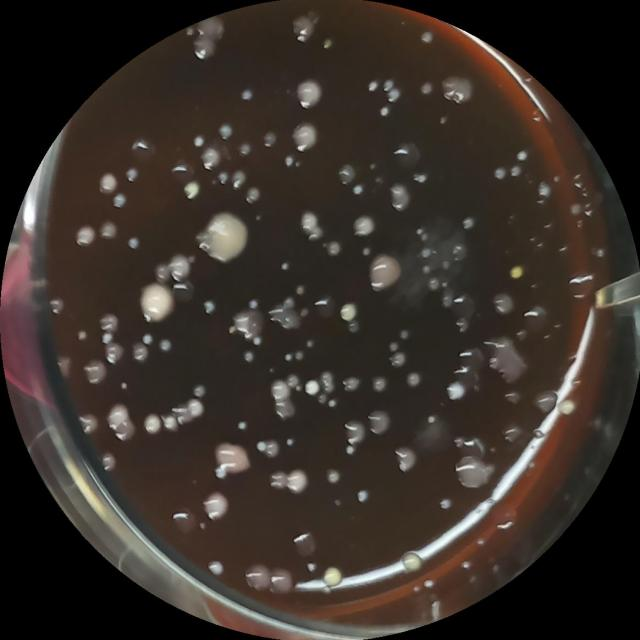Staphylococcus: (509, 264, 524, 280)
